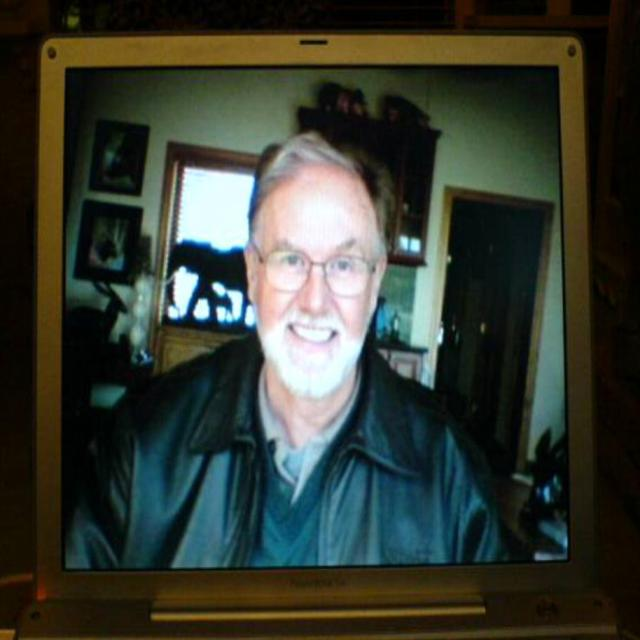Glasses: (239, 227, 383, 297)
